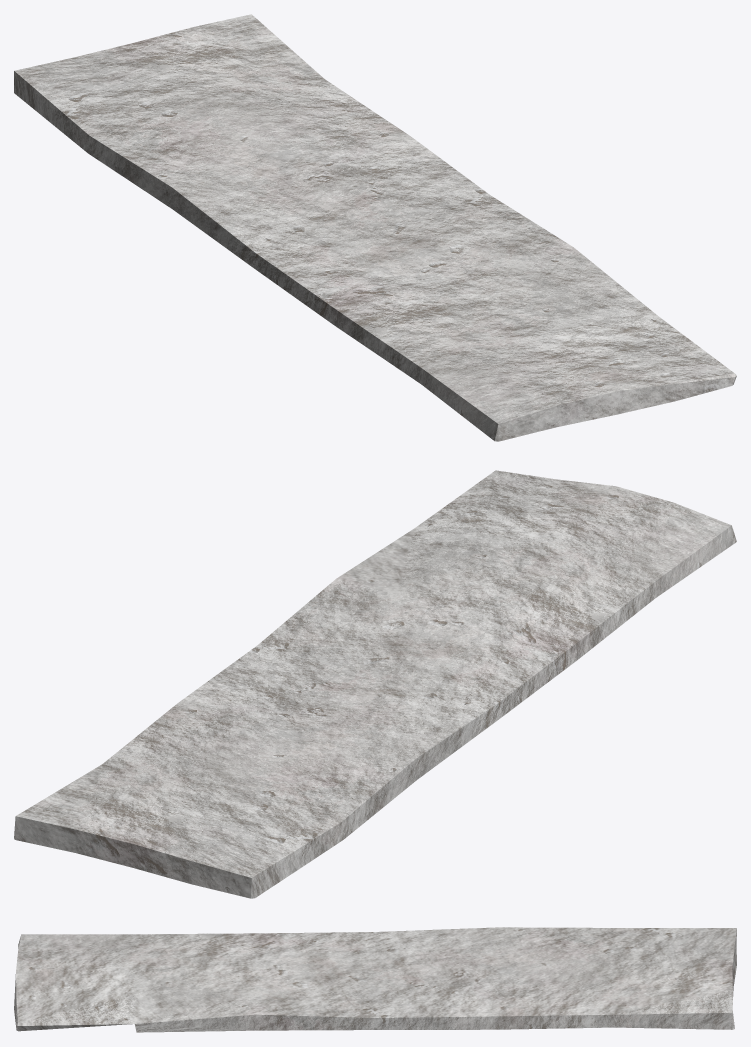
File: tile2_LOD1.FBX
3 views of the same model, one above another, from view 1: azimuth 30°, elevation 25°; view 2: azimuth 150°, elevation 25°; view 3: azimuth 270°, elevation 25° (orthographic). The views are drawn at different scales.
Visible parts, largest first — view 1: tile2_LOD1; view 2: tile2_LOD1; view 3: tile2_LOD1.
Part boxes in pixels (x1,y1,x2,y2): tile2_LOD1: (14,14,736,441); tile2_LOD1: (14,470,736,898); tile2_LOD1: (14,927,736,1032).
Size of the model in its own units: 52.1 by 5.06 by 173.
